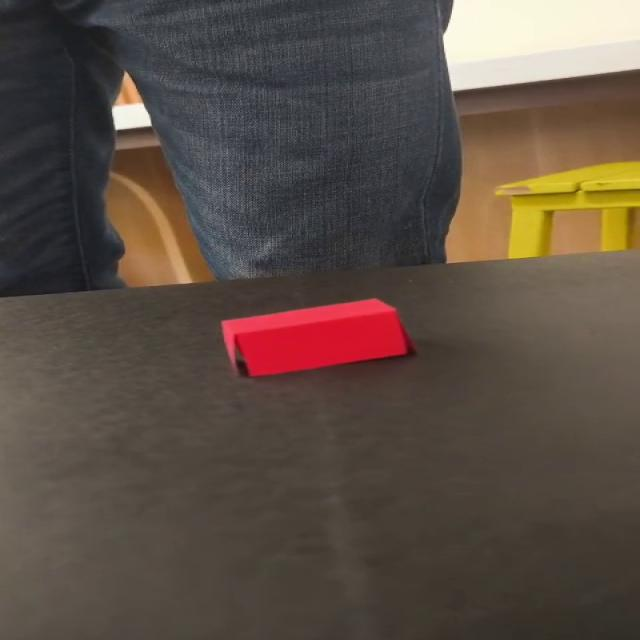red block: (219, 297, 412, 378)
